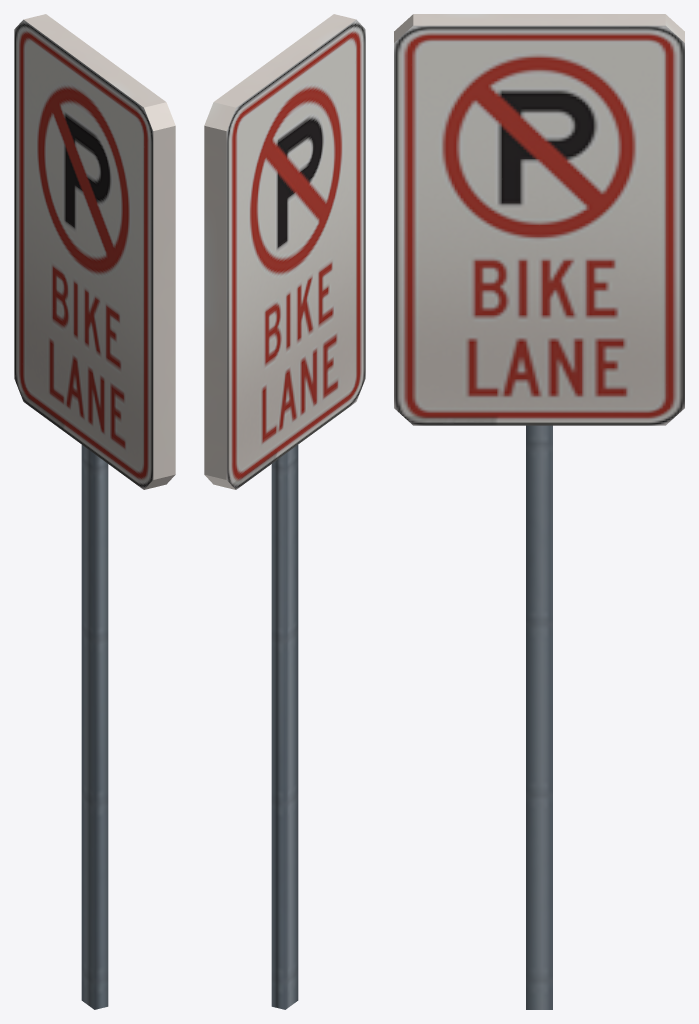
The model's file is MaLuBian_01_jinzhitingche_01.FBX.
3 renders of one model, left to right at view 1: azimuth 30°, elevation 25°; view 2: azimuth 150°, elevation 25°; view 3: azimuth 270°, elevation 25°, orthographic. The views are drawn at different scales.
Visible parts, largest first — view 1: JianKongJieDao_01_jinzhitingche_01; view 2: JianKongJieDao_01_jinzhitingche_01; view 3: JianKongJieDao_01_jinzhitingche_01.
Boxes of the visible parts, bbox=[...] form: JianKongJieDao_01_jinzhitingche_01: bbox=[14, 14, 175, 1009]; JianKongJieDao_01_jinzhitingche_01: bbox=[204, 14, 365, 1009]; JianKongJieDao_01_jinzhitingche_01: bbox=[394, 14, 684, 1009].
Bounding box in the file's own units: 18.86 × 754 × 201.
Materials: 1 (1 with a texture image).
